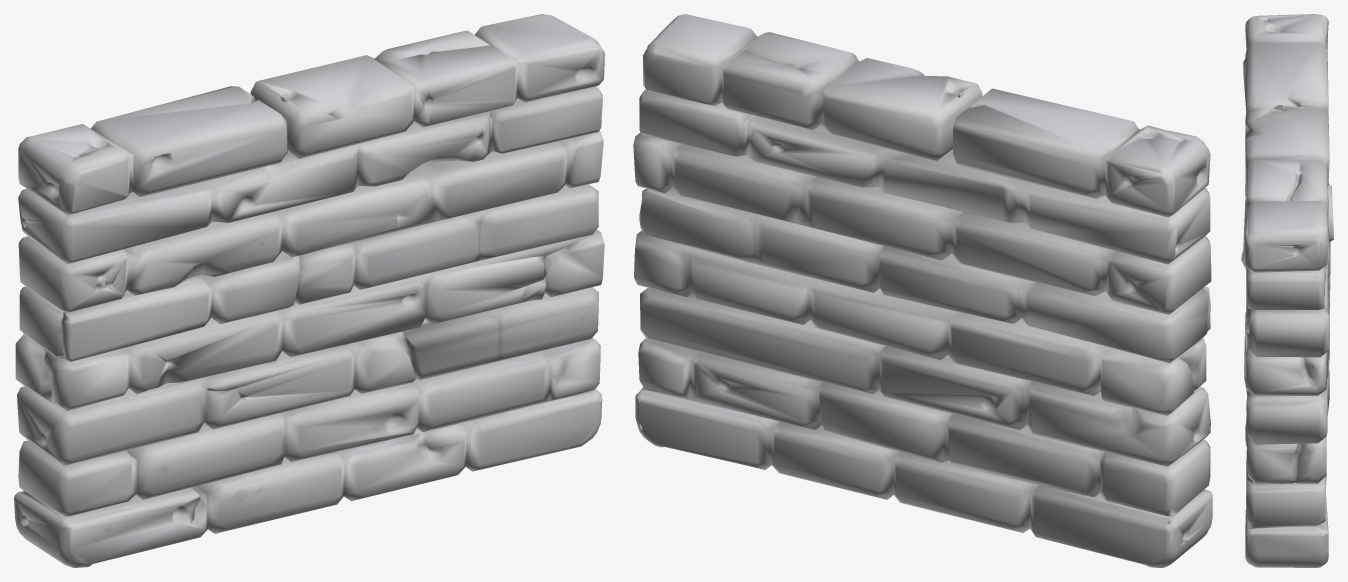
The model's file is 019dfb15-6eb2-7068-b6d1-1cf92b702fa0.glb.
The picture shows the model from 3 angles, left to right: view 1: azimuth 30°, elevation 25°; view 2: azimuth 150°, elevation 25°; view 3: azimuth 270°, elevation 25°; orthographic projection. The views are drawn at different scales.
Parts seen in each view (by area): view 1: tripo_node_947c4c32-d5f1-43bf-beec-0ed8b277c4c2; view 2: tripo_node_947c4c32-d5f1-43bf-beec-0ed8b277c4c2; view 3: tripo_node_947c4c32-d5f1-43bf-beec-0ed8b277c4c2.
Boxes of the visible parts, x1,y1,x2,y2 form: tripo_node_947c4c32-d5f1-43bf-beec-0ed8b277c4c2: [14, 14, 604, 567]; tripo_node_947c4c32-d5f1-43bf-beec-0ed8b277c4c2: [633, 14, 1212, 567]; tripo_node_947c4c32-d5f1-43bf-beec-0ed8b277c4c2: [1241, 14, 1333, 567].
Size of the model in its own units: 0.998 by 0.7129 by 0.1738.
1 material, 1 textured.
